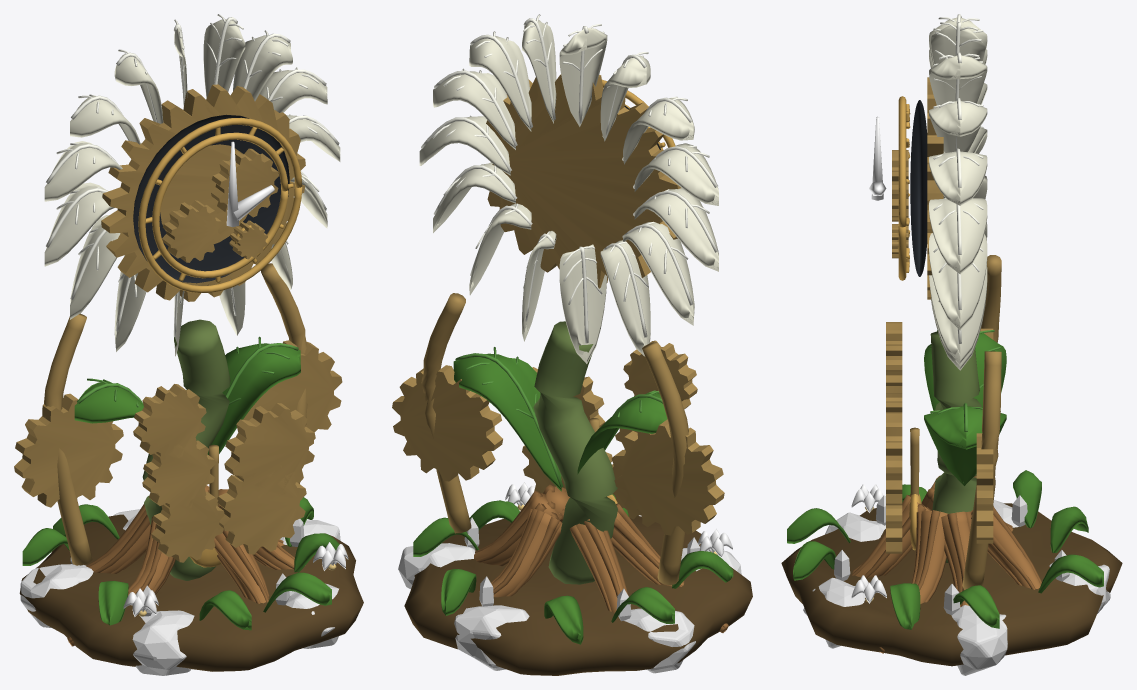
The model's file is clockflower-5.fbx.
3 views of the same model, side by side, from view 1: azimuth 30°, elevation 25°; view 2: azimuth 150°, elevation 25°; view 3: azimuth 270°, elevation 25° (orthographic). The views are drawn at different scales.
Parts seen in each view (by area): view 1: Core_Metal, Turret_Metal, Petals_Petal, clockflower-5_Organic, Turret_PortalBamboo, clockflower-5_PortalBamboo, clockflower-5_Bark, clockflower-5_Stone, clockflower-5_Petal, ClockHands_Metal, Pendulum_Metal, clockflower-5_SuperGlow; view 2: Petals_Petal, Turret_Metal, clockflower-5_Organic, Core_Metal, Turret_PortalBamboo, clockflower-5_Bark, clockflower-5_PortalBamboo, clockflower-5_Stone, clockflower-5_SuperGlow, clockflower-5_Petal; view 3: clockflower-5_Organic, Petals_Petal, Turret_Metal, Turret_PortalBamboo, clockflower-5_PortalBamboo, clockflower-5_Bark, Core_Metal, clockflower-5_Stone, clockflower-5_SuperGlow, Pendulum_Metal, clockflower-5_Petal, ClockHands_Metal.
Boxes of the visible parts, x1,y1,x2,y2 form: Core_Metal: [14, 148, 342, 562]; Turret_Metal: [43, 84, 307, 565]; Petals_Petal: [44, 14, 340, 356]; clockflower-5_Organic: [19, 514, 363, 671]; Turret_PortalBamboo: [74, 319, 300, 580]; clockflower-5_PortalBamboo: [22, 497, 339, 630]; clockflower-5_Bark: [67, 485, 305, 646]; clockflower-5_Stone: [20, 509, 340, 675]; clockflower-5_Petal: [123, 542, 348, 616]; ClockHands_Metal: [226, 141, 274, 227]; Pendulum_Metal: [189, 444, 221, 567]; clockflower-5_SuperGlow: [70, 519, 304, 616]; Petals_Petal: [419, 14, 718, 363]; Turret_Metal: [421, 74, 690, 585]; clockflower-5_Organic: [404, 504, 752, 675]; Core_Metal: [392, 340, 724, 535]; Turret_PortalBamboo: [453, 321, 667, 584]; clockflower-5_Bark: [474, 484, 728, 632]; clockflower-5_PortalBamboo: [413, 494, 733, 644]; clockflower-5_Stone: [398, 543, 741, 673]; clockflower-5_SuperGlow: [464, 517, 700, 621]; clockflower-5_Petal: [505, 482, 732, 558]; clockflower-5_Organic: [781, 503, 1122, 666]; Petals_Petal: [929, 14, 987, 370]; Turret_Metal: [898, 77, 1001, 589]; Turret_PortalBamboo: [924, 330, 1006, 562]; clockflower-5_PortalBamboo: [787, 470, 1103, 629]; clockflower-5_Bark: [851, 476, 1041, 653]; Core_Metal: [886, 150, 993, 553]; clockflower-5_Stone: [803, 500, 1110, 675]; clockflower-5_SuperGlow: [834, 495, 1069, 615]; Pendulum_Metal: [909, 427, 921, 550]; clockflower-5_Petal: [851, 484, 886, 603]; ClockHands_Metal: [869, 116, 886, 200].
Size of the model in its own units: 87.82 by 156 by 82.7.
